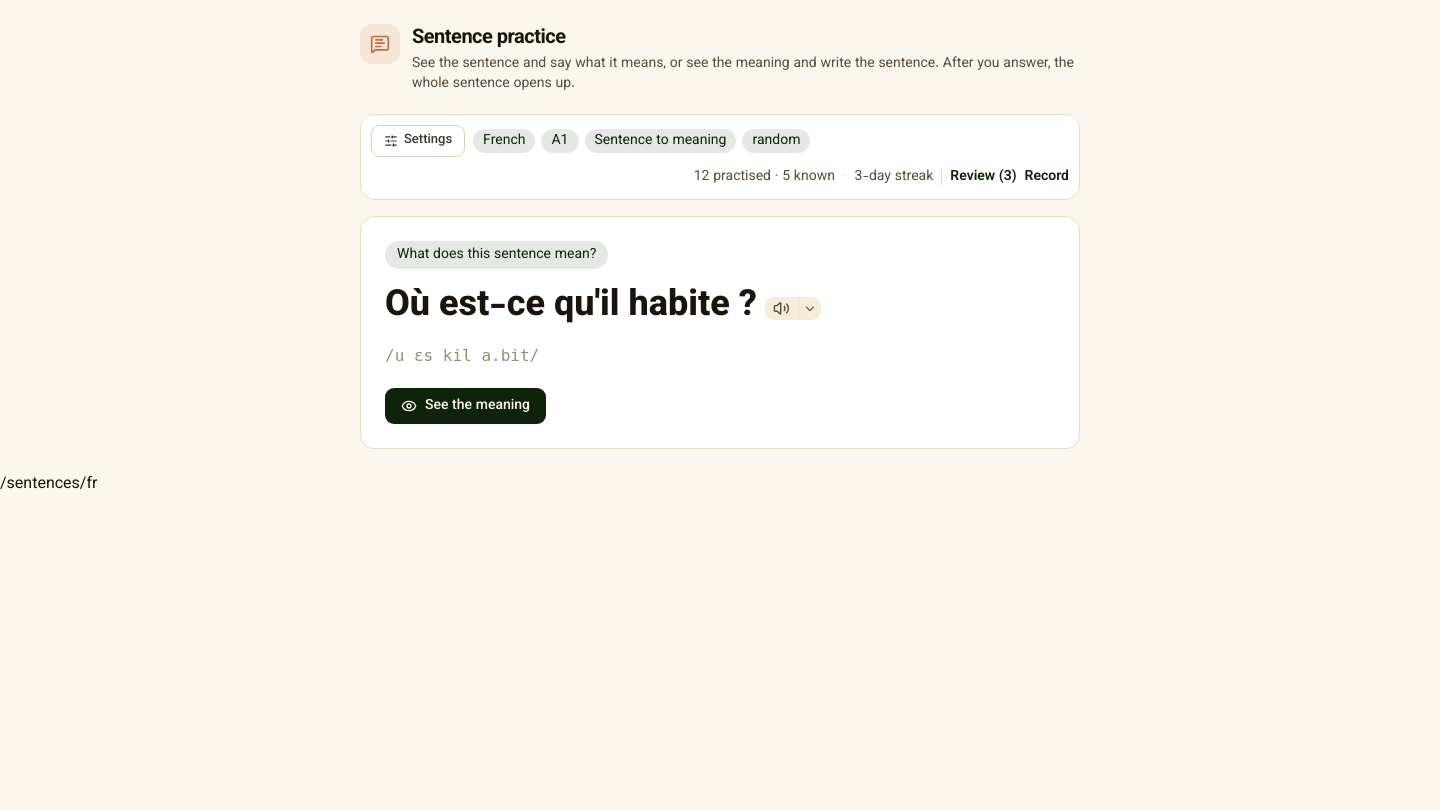
listen and question-and-answer, on screen › listening: the sentence is never printed on the prompt, text comes next with the ear question, meaning after
This screenshot has width=1440, height=810.
Expected: the element with test id "prompt" is shown, x1=360 y1=216 x2=1080 y2=448
Click the button with test id "settings-open" at (418, 141), box x1=371 y1=125 x2=465 y2=157
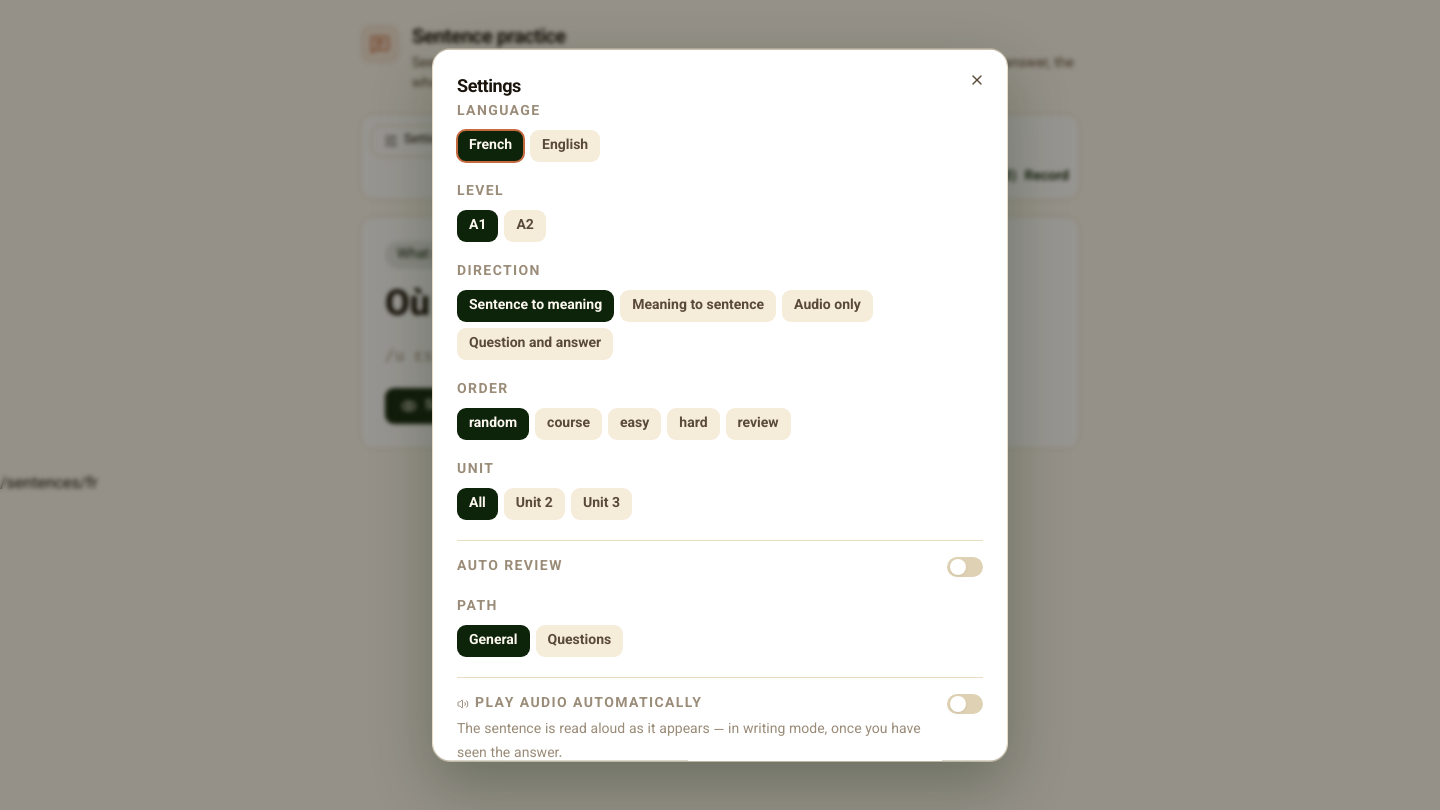
Click the button "Audio only" at (827, 306), box x1=782 y1=290 x2=873 y2=322
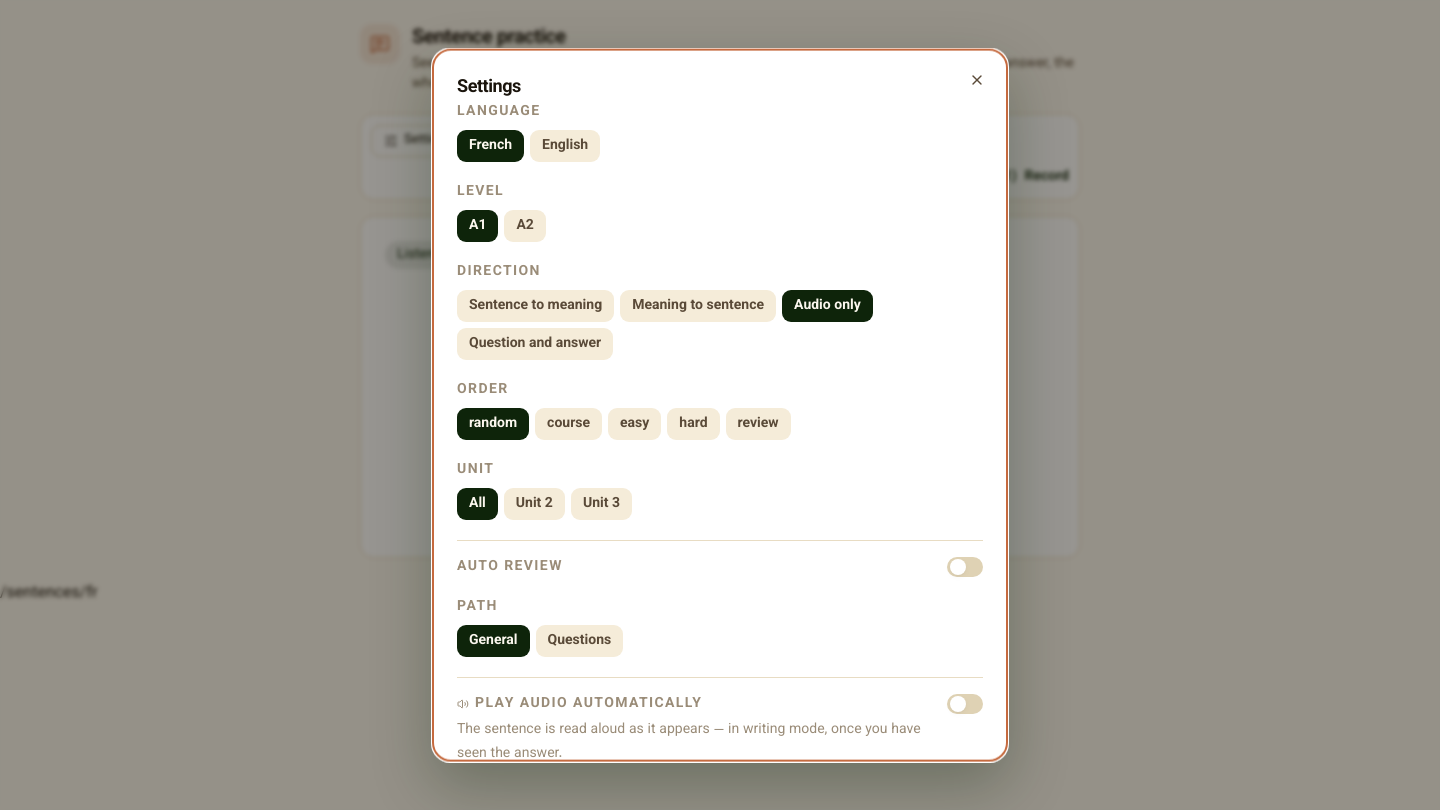
Now the element with test id "prompt" has attribute data-dir="listen", box x1=360 y1=216 x2=1080 y2=558
Press Escape
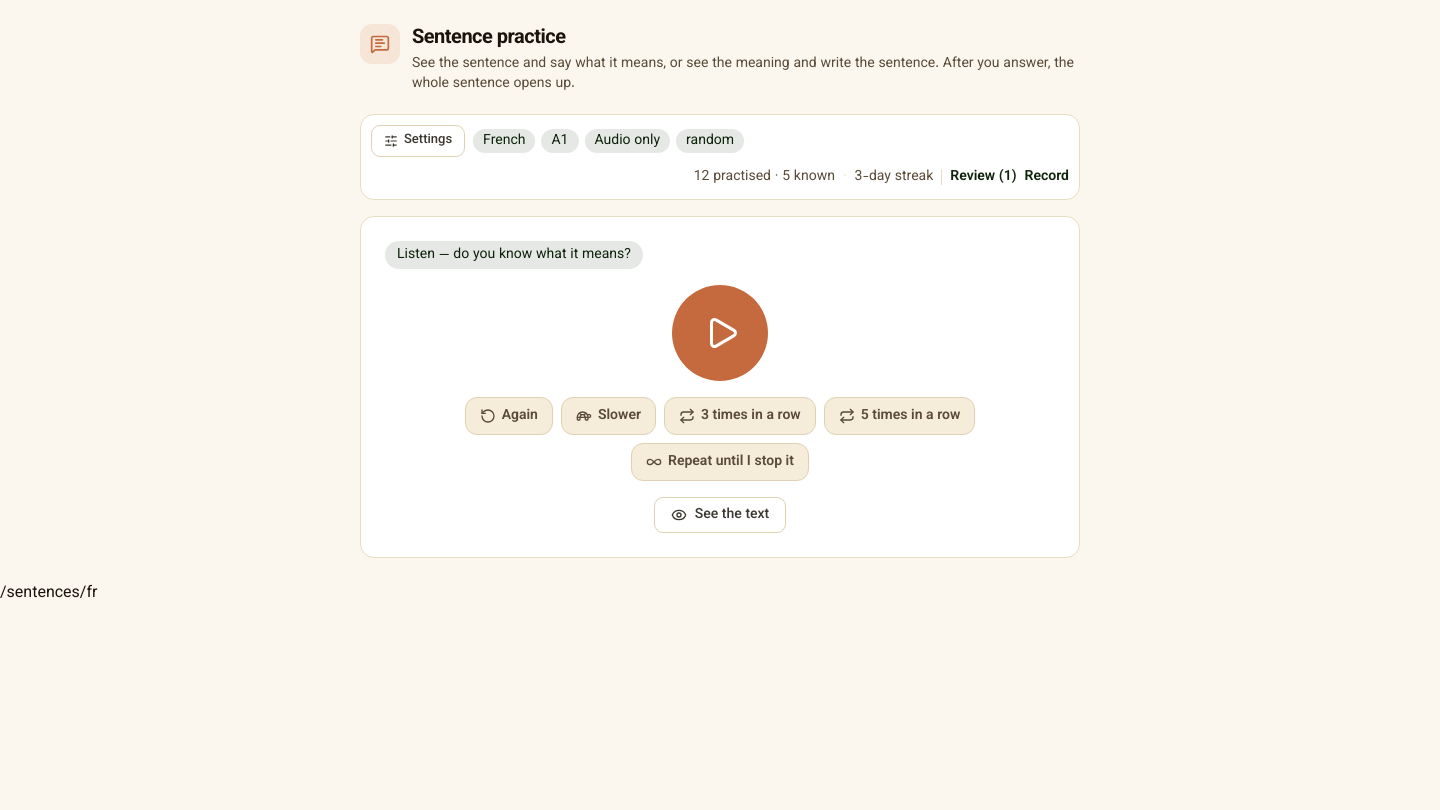
Now the element with test id "listen-player" is shown, box x1=465 y1=285 x2=975 y2=481
Now the element with test id "prompt" does not show "habite", box x1=360 y1=216 x2=1080 y2=558
Click the button "See the text" at (720, 515), box x1=654 y1=497 x2=786 y2=533
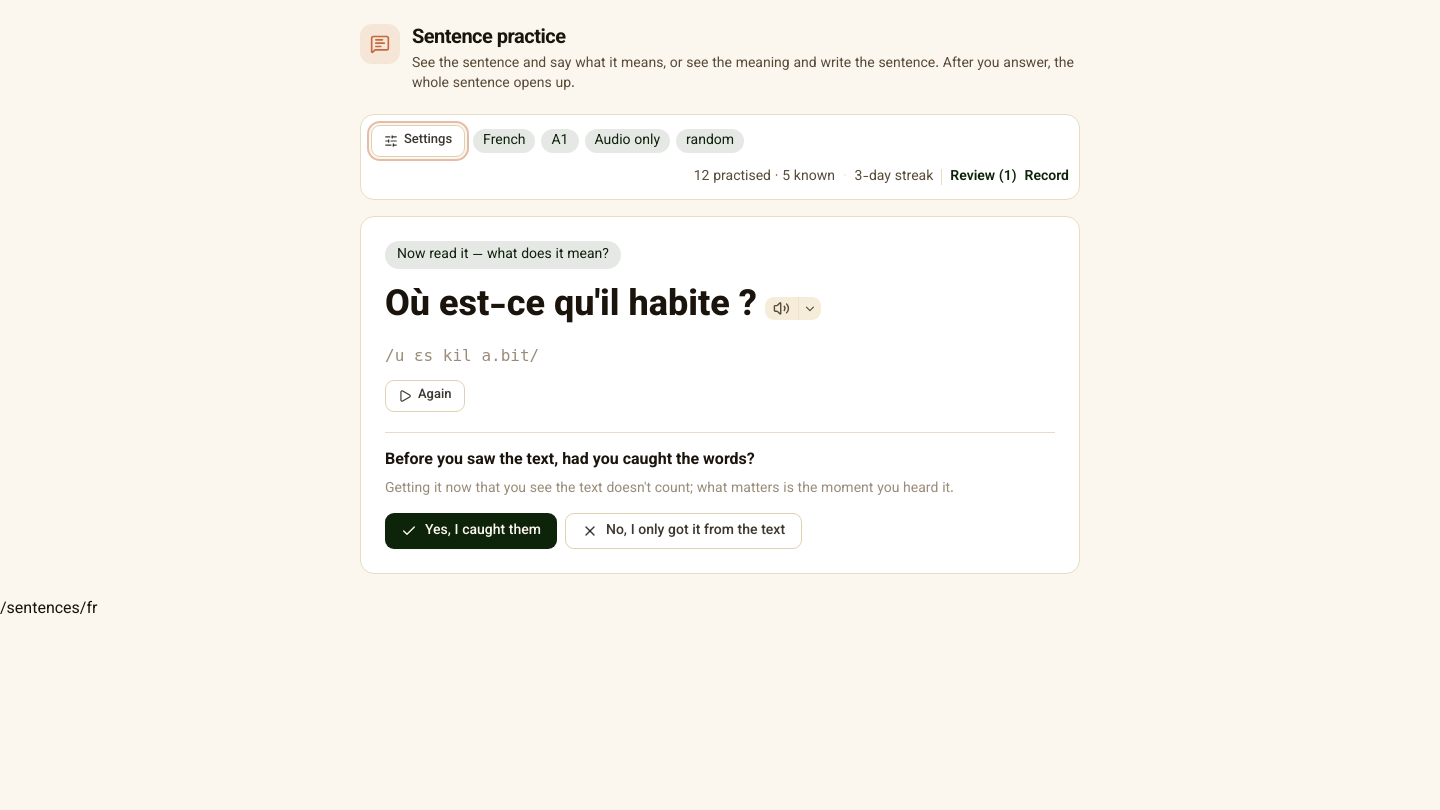
Expected: the element with test id "listen-text" does not show "Where does he live?", x1=360 y1=216 x2=1080 y2=574
Now the element with test id "listen-text" shows "Où est-ce qu'il habite ?", box x1=360 y1=216 x2=1080 y2=574
Click the button "No, I only got it from the text" at (684, 530), box x1=565 y1=512 x2=802 y2=548
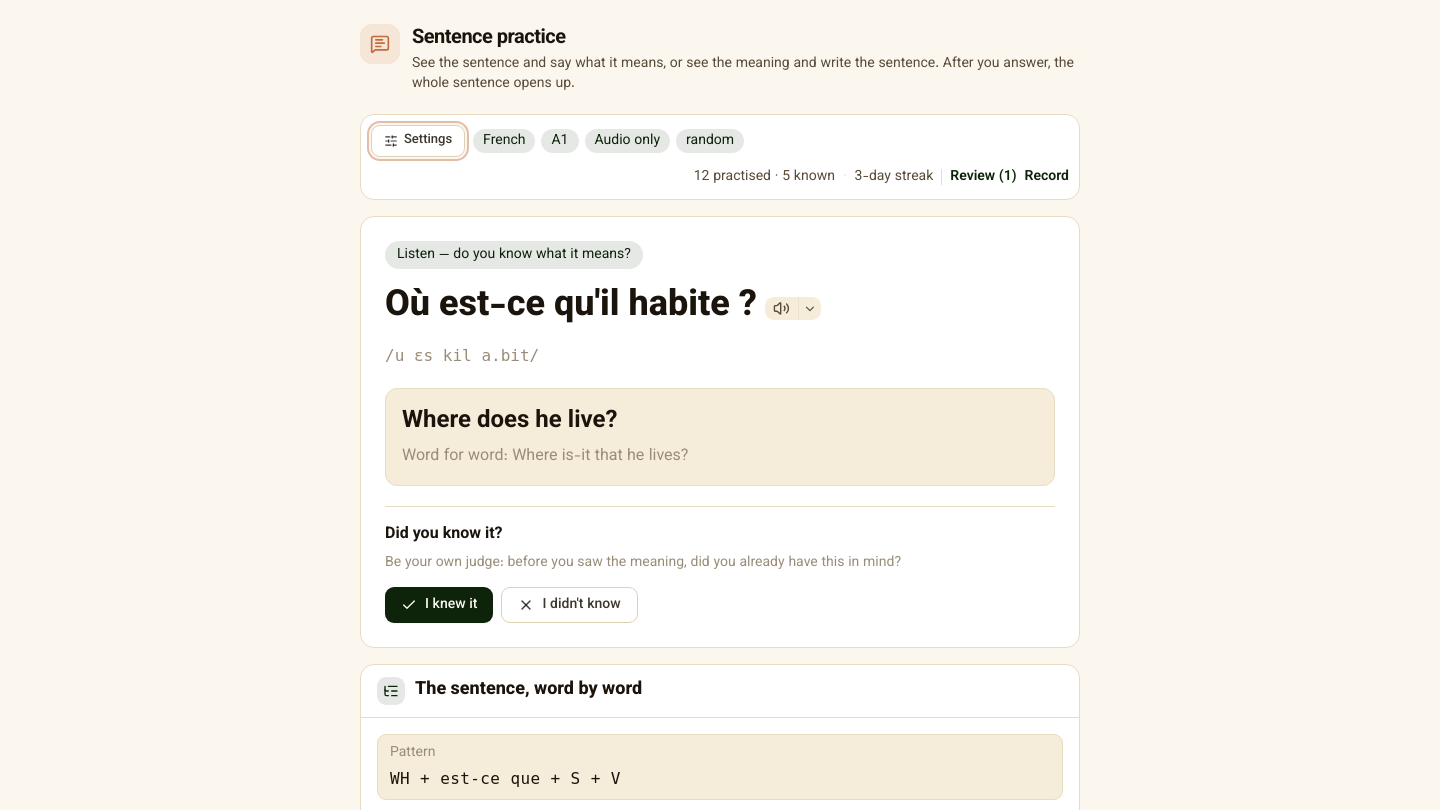
Now the element with test id "result" shows "Where does he live?", box x1=402 y1=402 x2=617 y2=440
Click the button with test id "knew" at (439, 604), box x1=385 y1=586 x2=494 y2=622
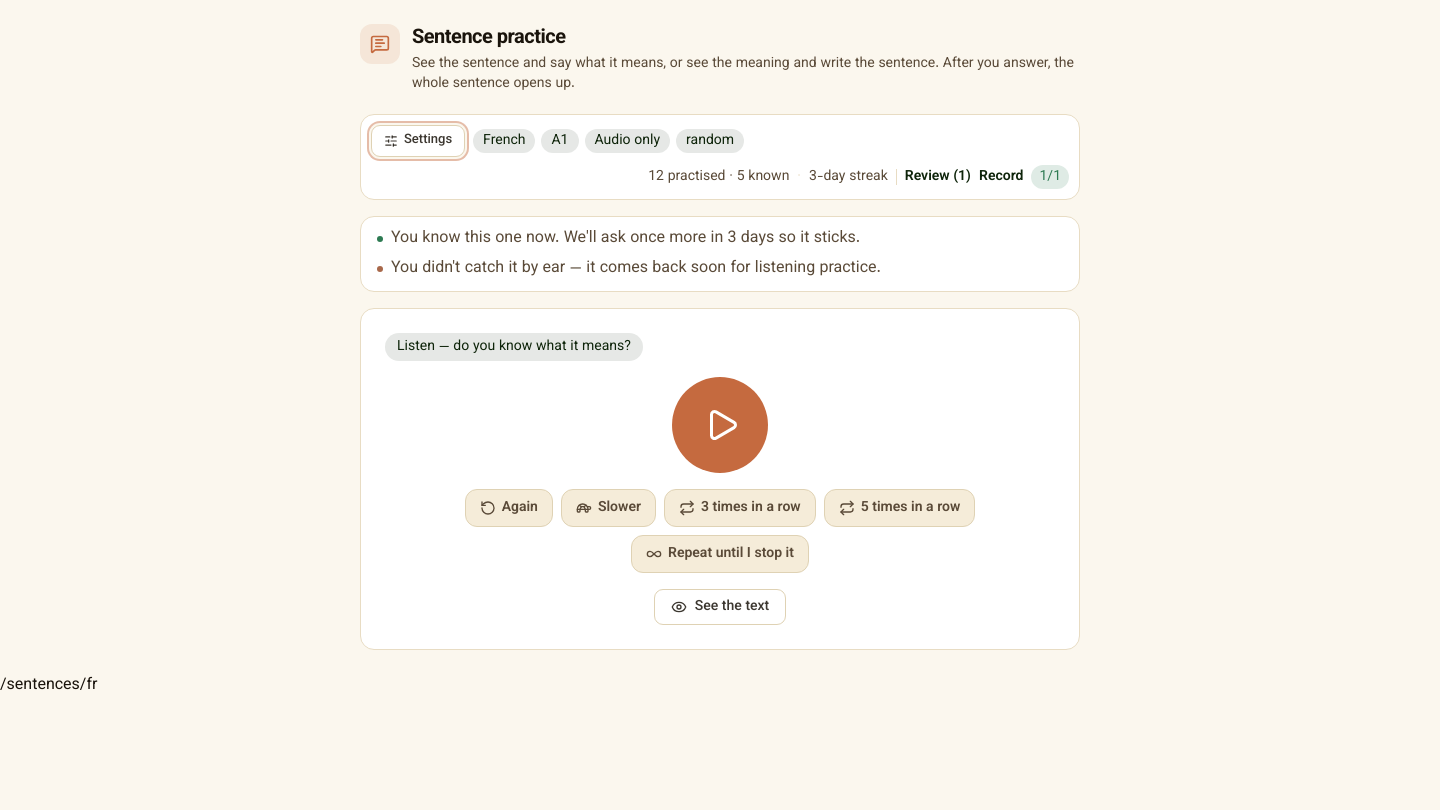
Now the element with test id "outcome" shows "You didn't catch it by ear", box x1=391 y1=256 x2=881 y2=281
